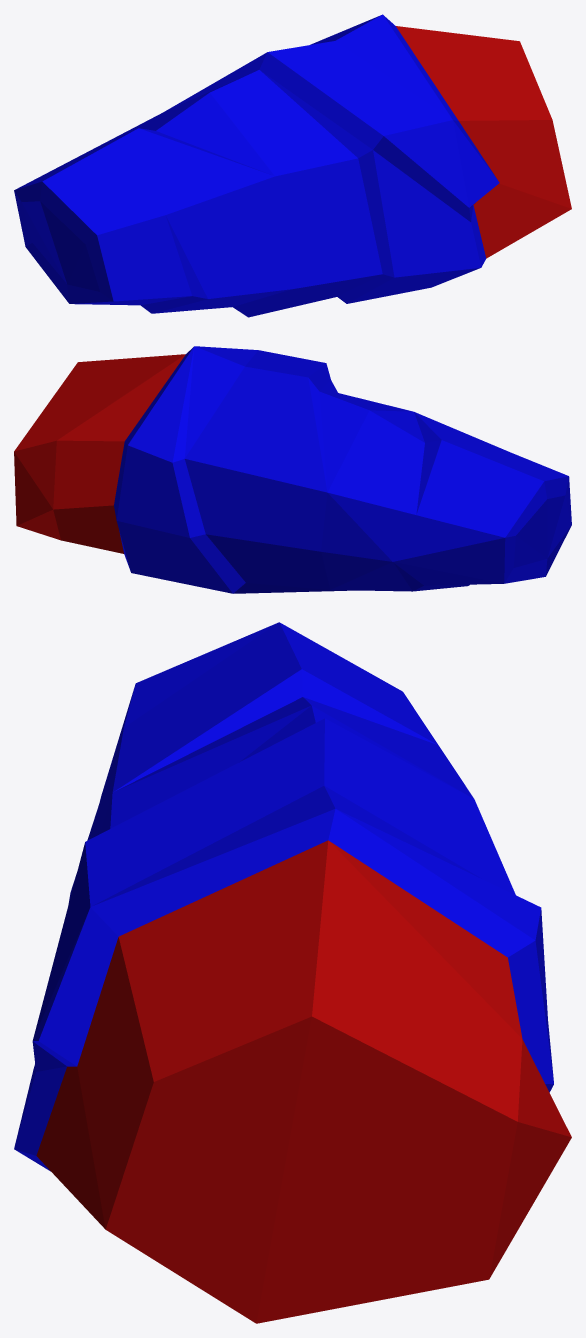
Rendered from Chr_ArmLowerRight_Male_Static_03.fbx.
The picture shows the model from 3 angles, top to bottom: view 1: azimuth 30°, elevation 25°; view 2: azimuth 150°, elevation 25°; view 3: azimuth 270°, elevation 25°; orthographic projection. The views are drawn at different scales.
Visible parts, largest first — view 1: Chr_ArmLowerRight_Male_03; view 2: Chr_ArmLowerRight_Male_03; view 3: Chr_ArmLowerRight_Male_03.
Boxes of the visible parts, x1,y1,x2,y2 form: Chr_ArmLowerRight_Male_03: [14, 14, 571, 317]; Chr_ArmLowerRight_Male_03: [14, 346, 571, 593]; Chr_ArmLowerRight_Male_03: [14, 622, 571, 1323].
Bounding box in the file's own units: 29.09 × 14.42 × 15.75.
